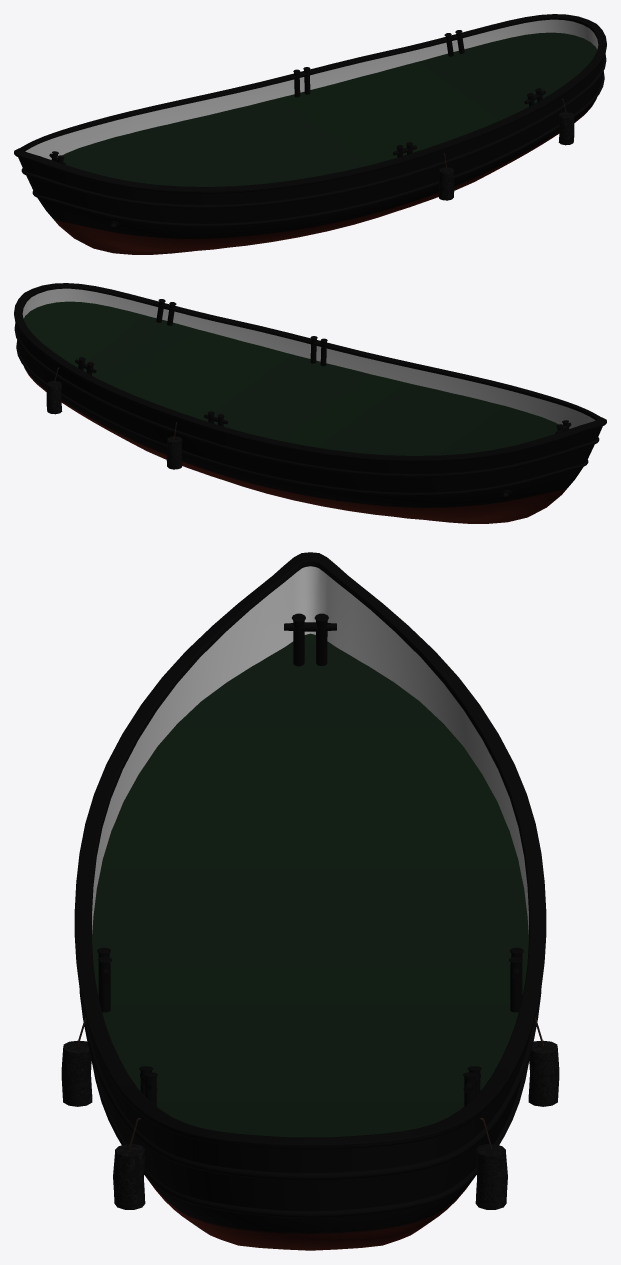
Rendered from Boat.fbx.
3 views of the same model, one above another, from view 1: azimuth 30°, elevation 25°; view 2: azimuth 150°, elevation 25°; view 3: azimuth 270°, elevation 25° (orthographic). The views are drawn at different scales.
Parts seen in each view (by area): view 1: boat_body, boat_elements_06_black, boat_buffer; view 2: boat_body, boat_elements_06_black, boat_buffer; view 3: boat_body, boat_buffer, boat_elements_06_black.
Part boxes in pixels (x1=…): boat_body: x1=14, y1=14, x2=606, y2=254; boat_elements_06_black: x1=49, y1=30, x2=545, y2=164; boat_buffer: x1=438, y1=98, x2=574, y2=200; boat_body: x1=14, y1=283, x2=606, y2=523; boat_elements_06_black: x1=75, y1=299, x2=571, y2=433; boat_buffer: x1=46, y1=367, x2=182, y2=469; boat_body: x1=74, y1=552, x2=546, y2=1250; boat_buffer: x1=61, y1=1017, x2=559, y2=1209; boat_elements_06_black: x1=97, y1=613, x2=523, y2=1105.
Size of the model in its own units: 1741 by 421 by 645.
Materials: 3 (2 with a texture image).
